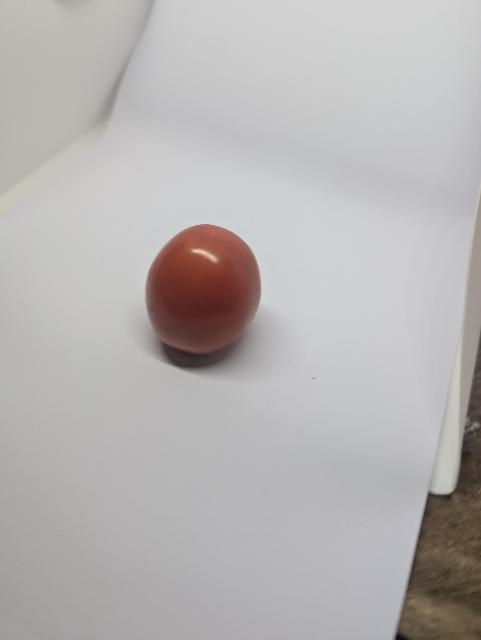red: (139, 216, 270, 365)
